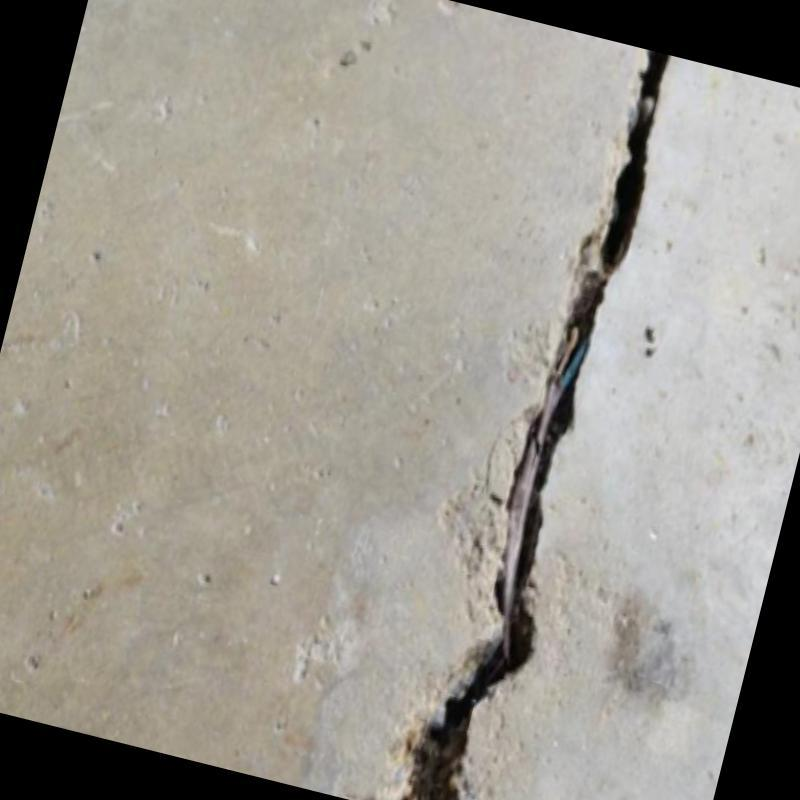crack: (401, 50, 668, 800)
